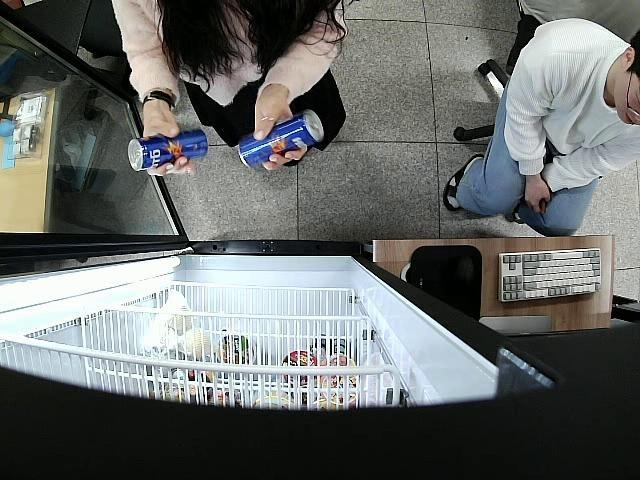16_hot6: (238, 112, 324, 172), (126, 126, 208, 170)
